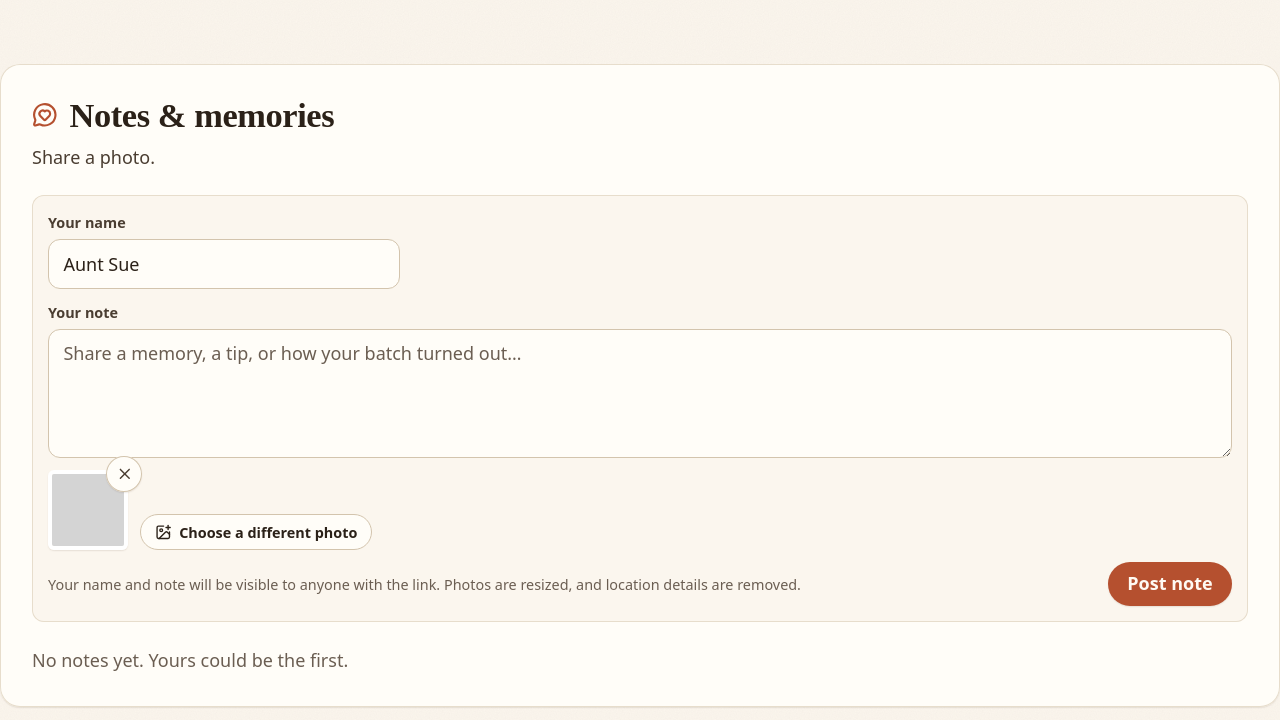
Test case: adding a note with a photo › lets you take the photo back off
Earlier steps of the test are not shown.
Click the button named "Remove the photo" at point(124, 474), box x1=106 y1=456 x2=142 y2=492
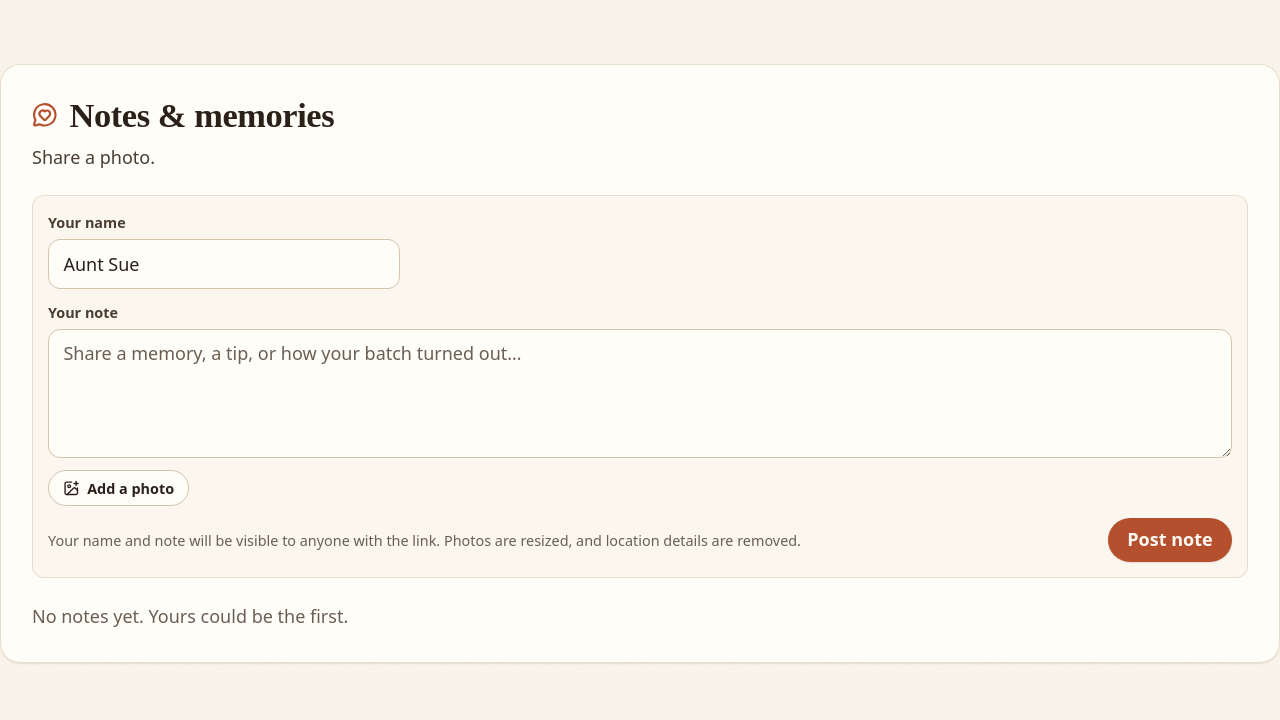
Now the file field labelled "Add a photo" is shown, box x1=48 y1=470 x2=189 y2=506
